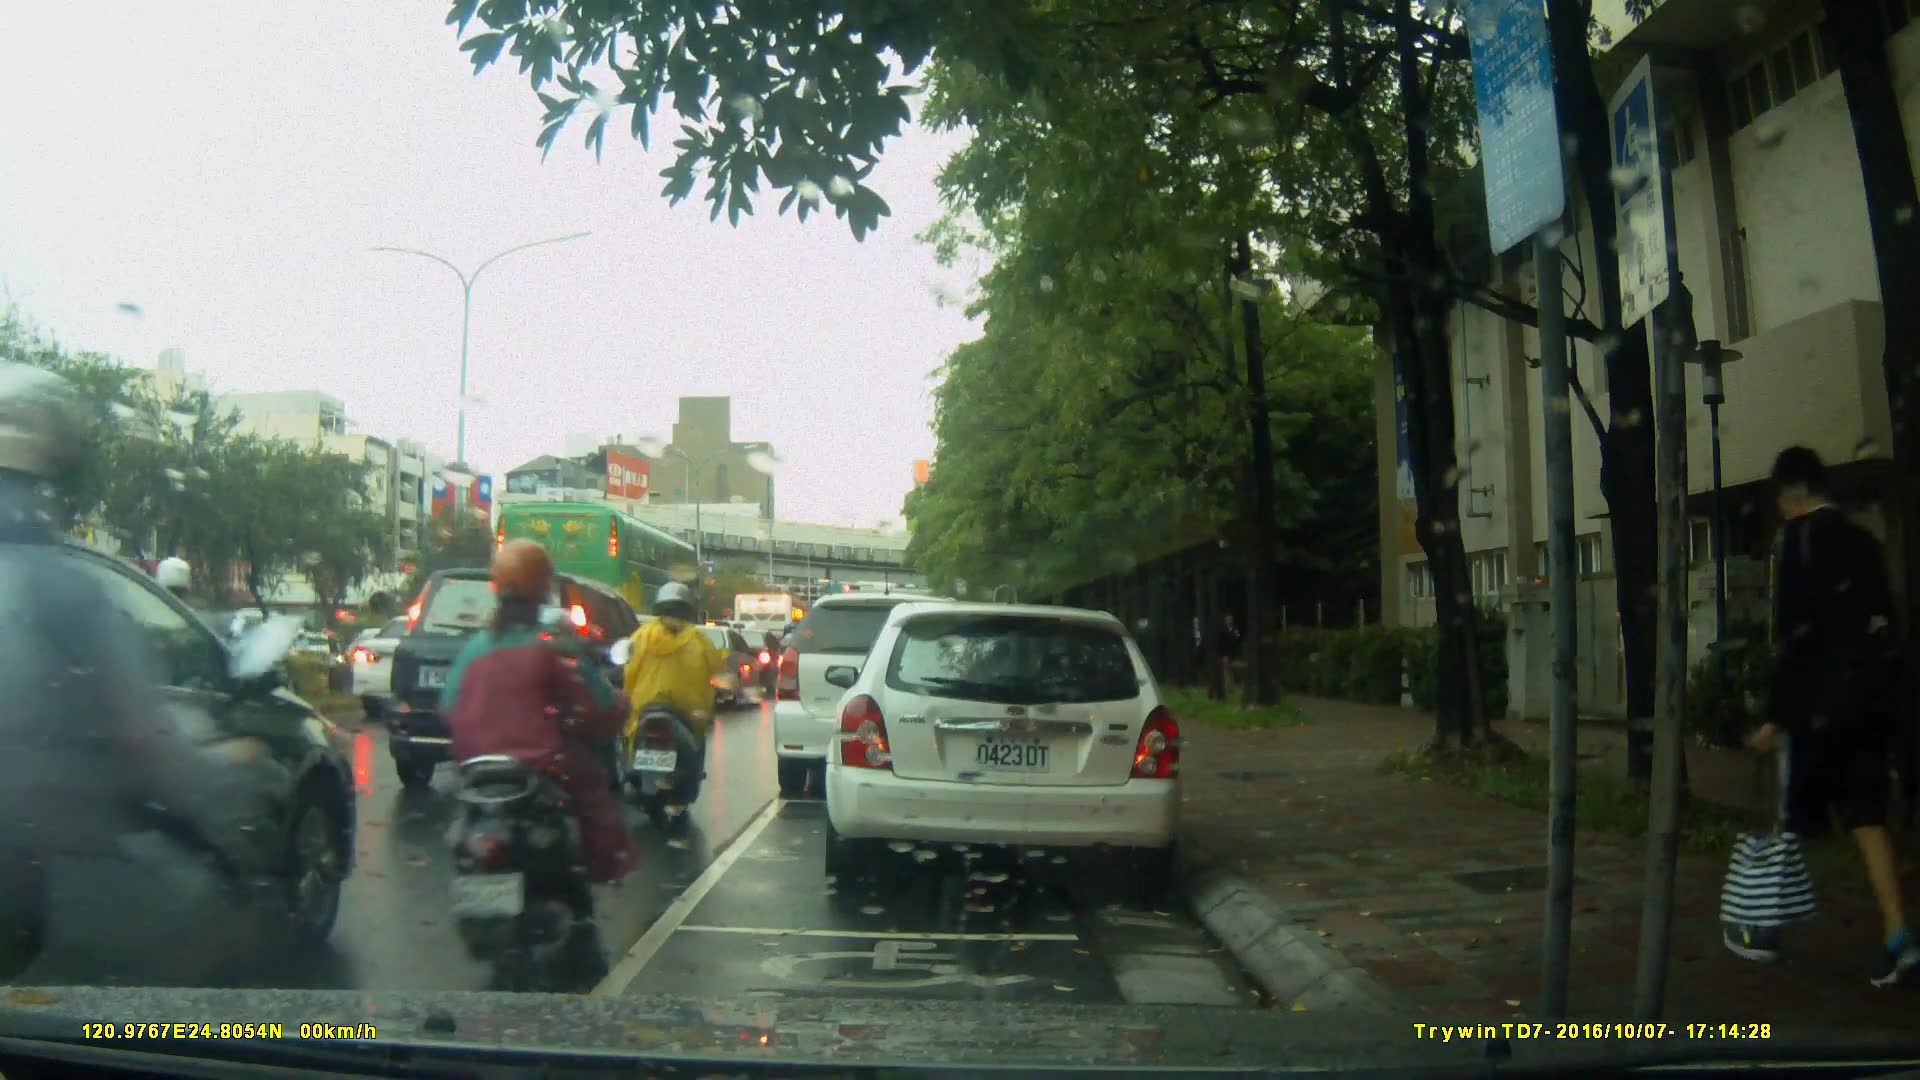pedestrian: (1711, 438, 1907, 1001)
rider: (1, 366, 315, 1080), (448, 542, 635, 970), (624, 578, 730, 829), (130, 557, 242, 791)
vehicle: (3, 521, 352, 988), (831, 592, 1196, 897), (390, 565, 672, 801), (770, 592, 999, 800), (492, 498, 705, 659), (653, 625, 765, 710)
